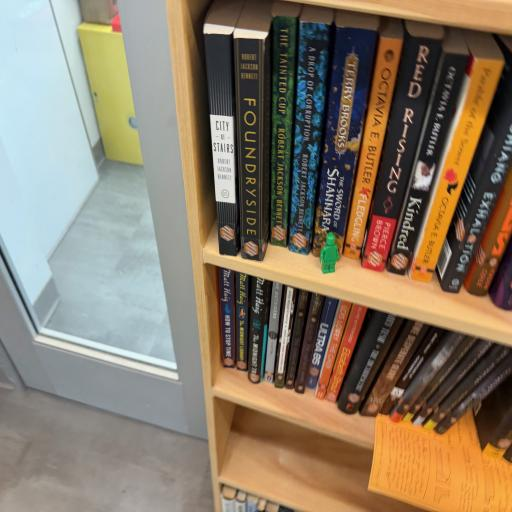Lego-Dude: (320, 232, 340, 274)
